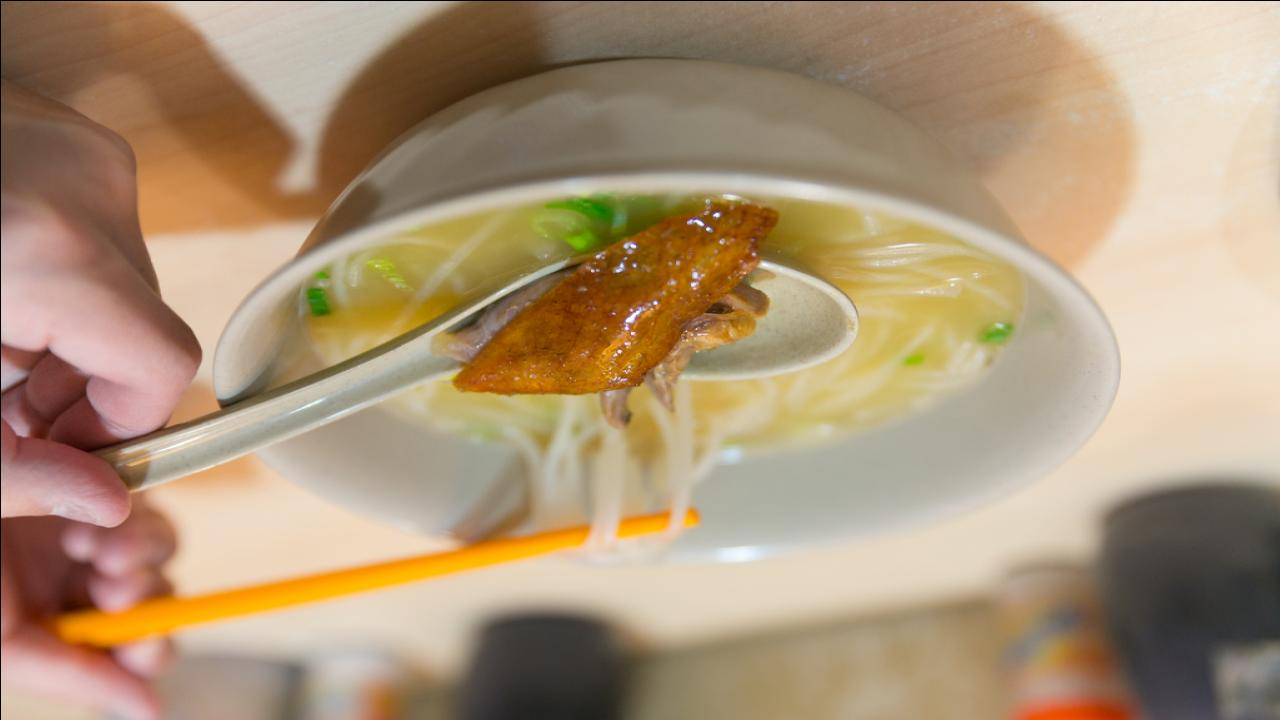chopstick: (30, 505, 702, 655)
